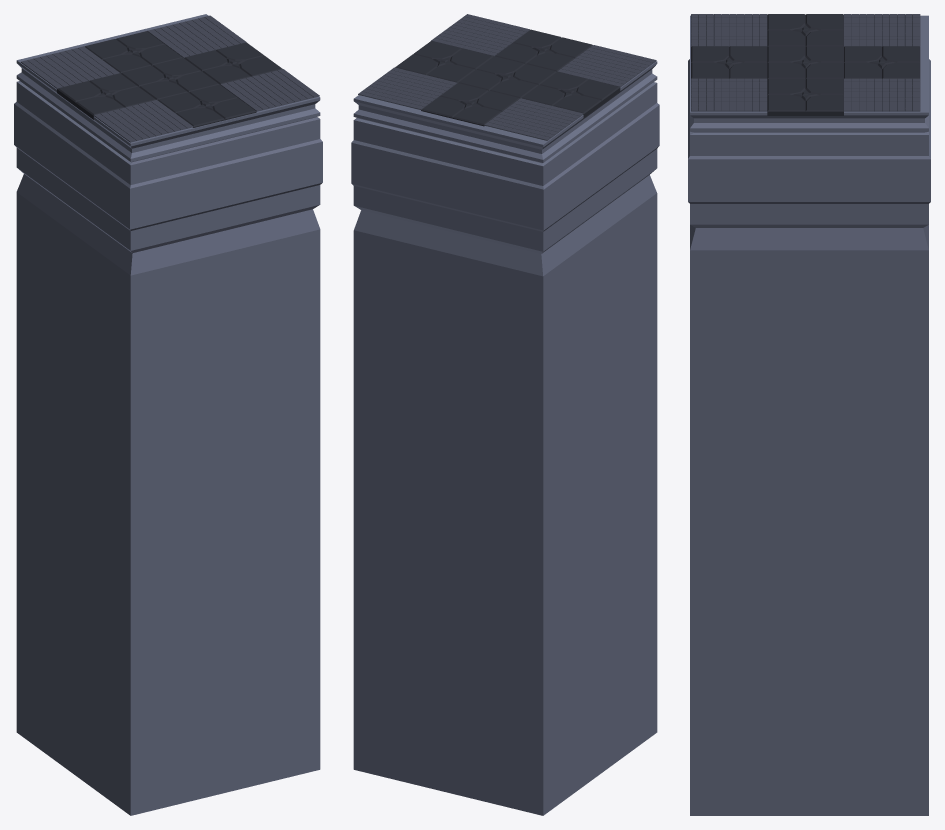
The model's file is block_d.fbx.
3 renders of one model, left to right at view 1: azimuth 30°, elevation 25°; view 2: azimuth 150°, elevation 25°; view 3: azimuth 270°, elevation 25°, orthographic. The views are drawn at different scales.
Parts seen in each view (by area): view 1: 01, Cube.067, Cube.029, Cube.038, Cube.027, Cube.070, Cube.068, Cube.066, Cube.055, Cube.069; view 2: 01, Cube.067, Cube.069, Cube.070, Cube.068, Cube.038, Cube.027, Cube.066, Cube.055, Cube.029; view 3: 01, Cube.055, Cube.027, Cube.068, Cube.038, Cube.070, Cube.067, Cube.066, Cube.069, Cube.029.
Part boxes in pixels (bbox=[...]): 01: bbox=[14, 14, 322, 815]; Cube.067: bbox=[57, 73, 155, 119]; Cube.029: bbox=[157, 84, 256, 127]; Cube.038: bbox=[94, 100, 193, 142]; Cube.027: bbox=[220, 69, 319, 111]; Cube.070: bbox=[20, 46, 119, 88]; Cube.068: bbox=[147, 15, 246, 57]; Cube.066: bbox=[120, 58, 219, 99]; Cube.055: bbox=[184, 42, 282, 84]; Cube.069: bbox=[84, 31, 182, 73]; 01: bbox=[351, 61, 659, 815]; Cube.067: bbox=[522, 71, 620, 117]; Cube.069: bbox=[421, 83, 519, 126]; Cube.070: bbox=[484, 98, 583, 140]; Cube.068: bbox=[358, 67, 457, 109]; Cube.038: bbox=[557, 45, 656, 87]; Cube.027: bbox=[431, 14, 530, 56]; Cube.066: bbox=[458, 56, 556, 98]; Cube.055: bbox=[395, 41, 493, 82]; Cube.029: bbox=[495, 29, 592, 71]; 01: bbox=[688, 15, 930, 815]; Cube.055: bbox=[767, 78, 843, 115]; Cube.027: bbox=[691, 78, 767, 111]; Cube.068: bbox=[844, 78, 920, 111]; Cube.038: bbox=[691, 14, 767, 46]; Cube.070: bbox=[844, 14, 920, 46]; Cube.067: bbox=[767, 14, 843, 46]; Cube.066: bbox=[767, 46, 843, 79]; Cube.069: bbox=[844, 46, 920, 78]; Cube.029: bbox=[691, 46, 767, 78].
Size of the model in its own units: 609 by 2040 by 635.
